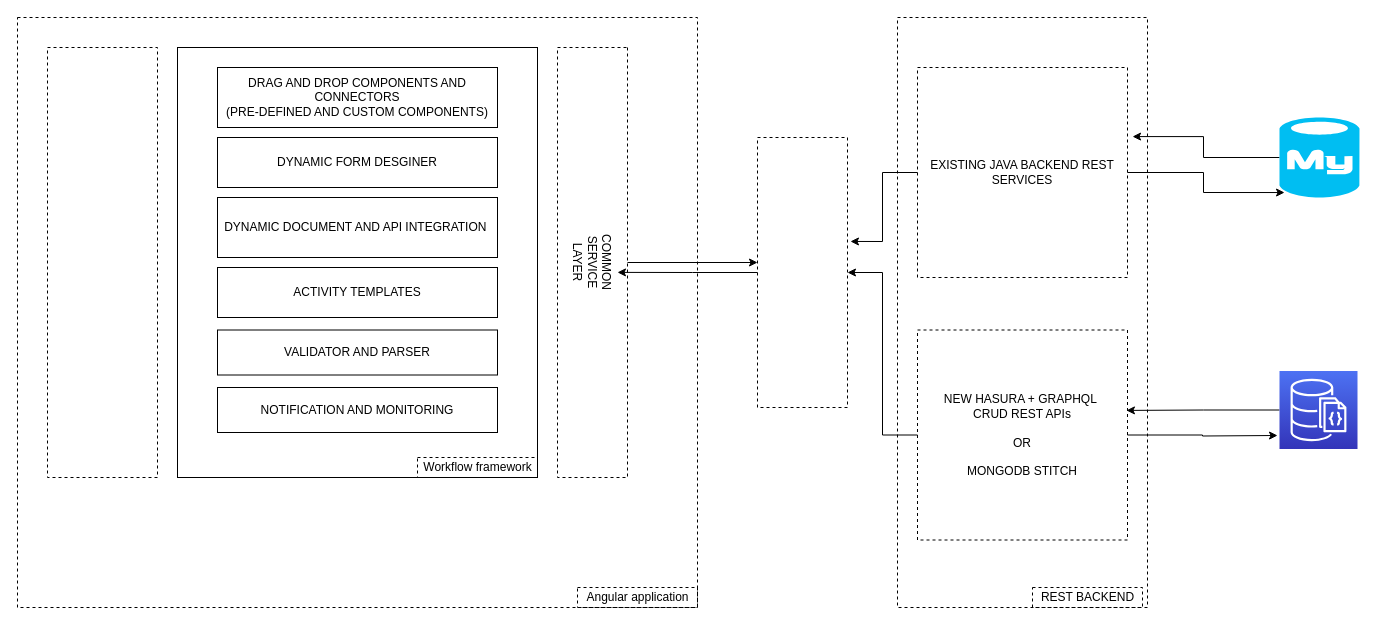
The diagram is 1377 pixels wide and 625 high, and some of its shapes have lost their labels. The centre of each missing label's shape, as x and y in pixels:
"API GATEWAY" belongs at (802,272).
"ROLE BASED ACCESSIBILITY" belongs at (102,262).
